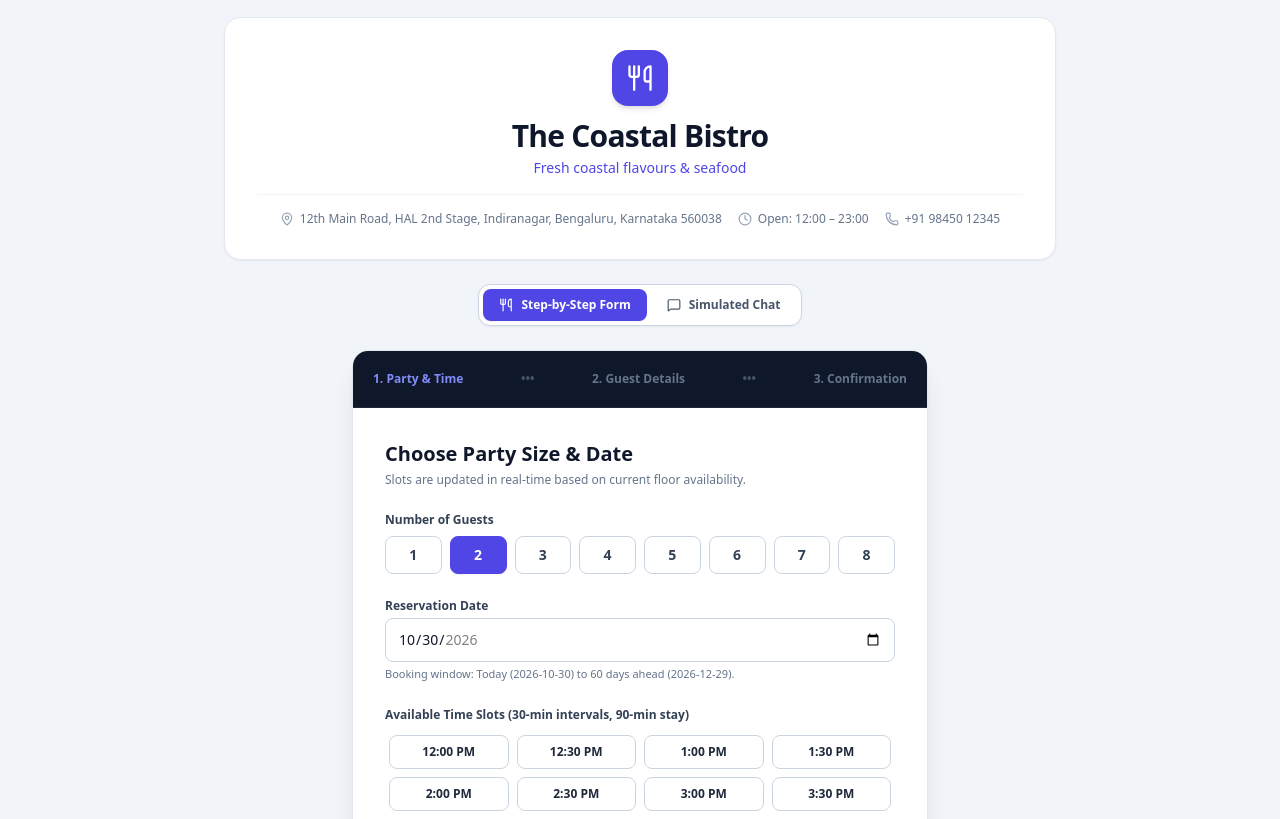
it: End-to-End User Journeys (Smoke Tests) › navigates to /book customer portal and shows request received after booking
Expected: the heading "The Coastal Bistro" is shown, [512,115,768,156]
Expected: the text "Step-by-Step Form" is shown, [521,297,631,313]
Click the button "12:00 PM": (449, 752) [389,734,508,768]
(page scrolled)
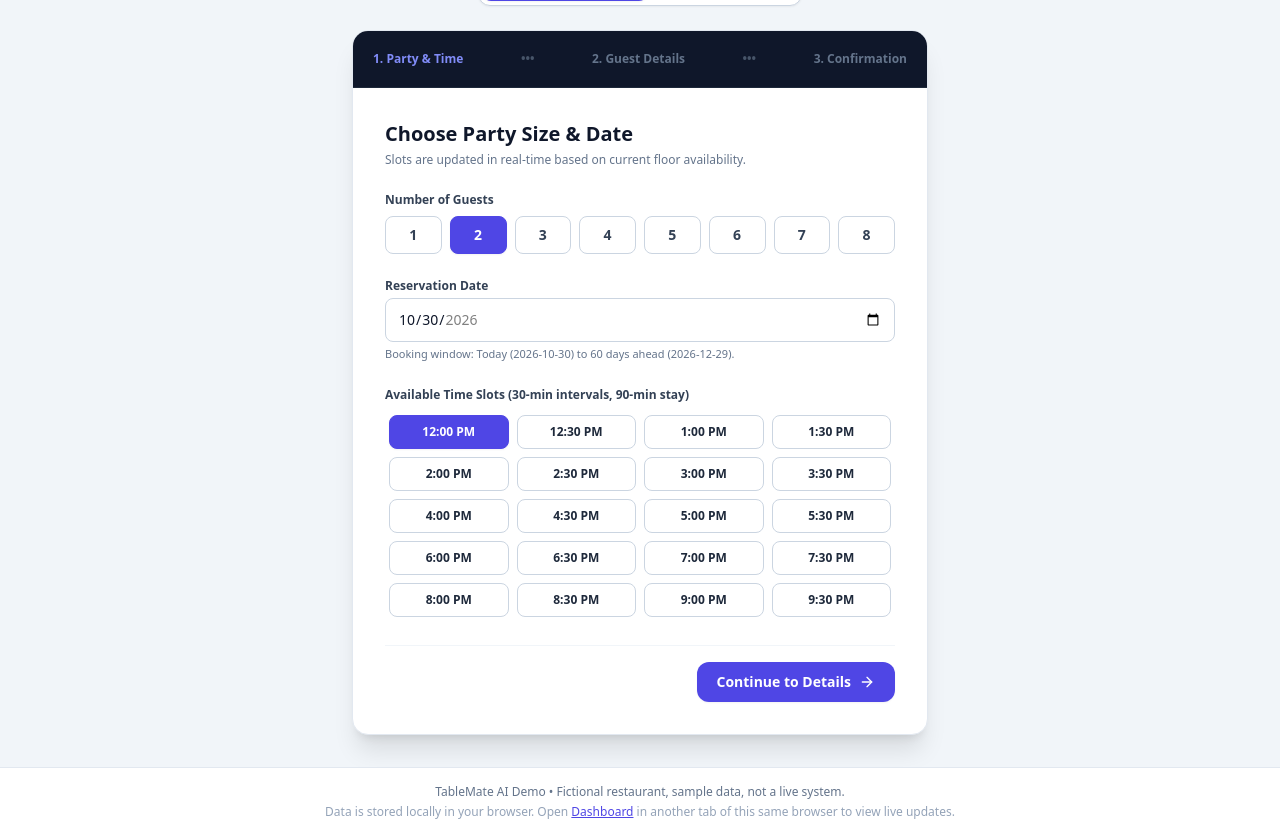
// Click continue to details
Click the button "Continue to Details": (796, 682) [696,662,895,702]
(page scrolled)
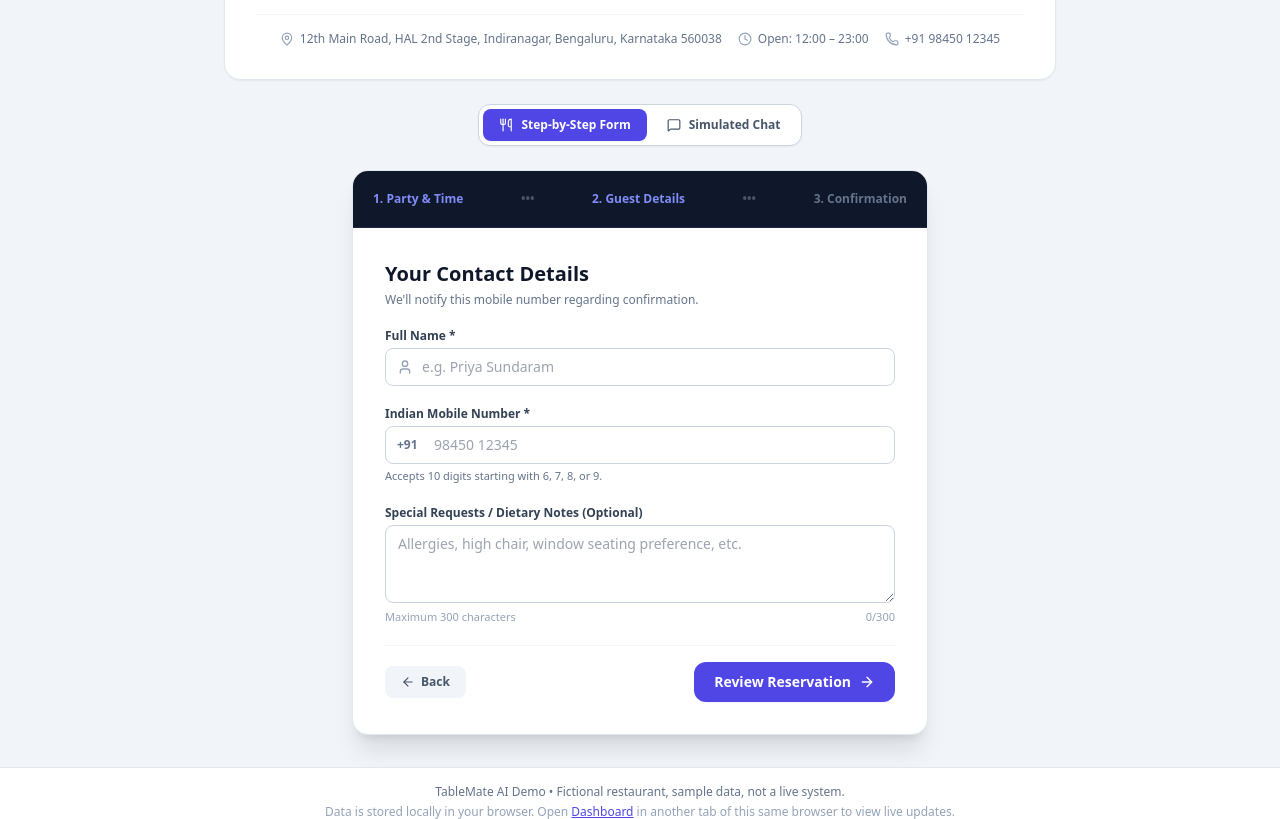
Expected: the heading "Your Contact Details" is shown, [385,260,589,287]
In the field with placeholder "e.g. Priya Sundaram": (640, 367) [385,348,895,386], type "Aarav Pilot Test"
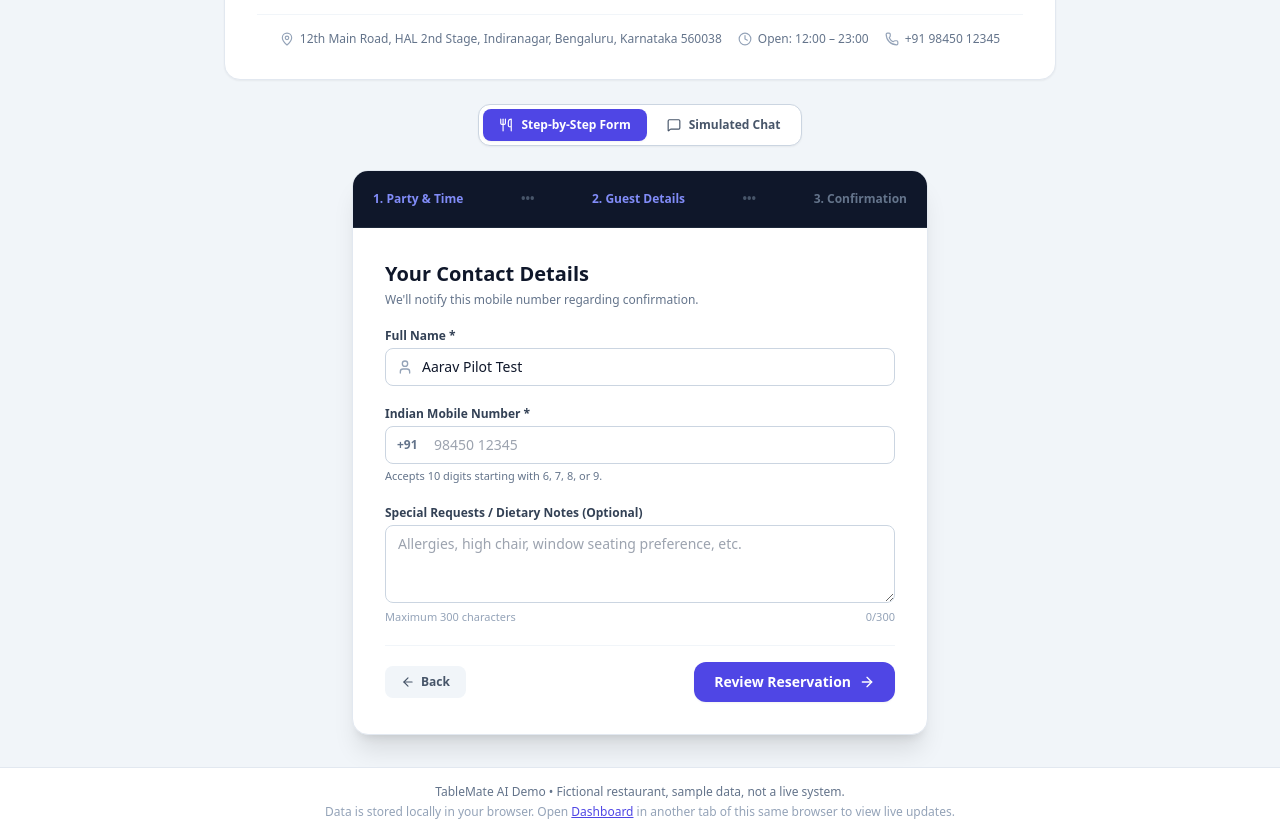
In the field with placeholder "98450 12345": (640, 445) [385,426,895,464], type "9845099999"
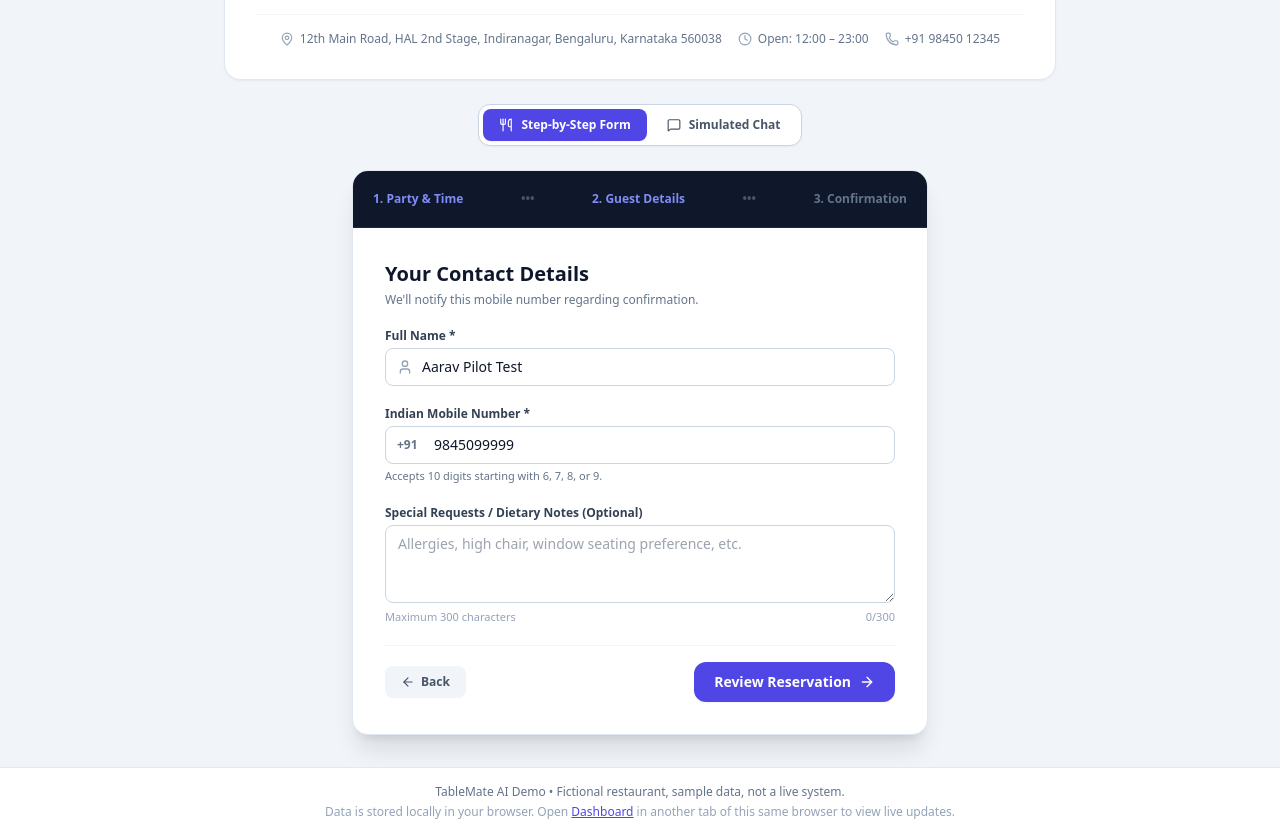
// Review step
Click the button "Review Reservation": (795, 682) [694,662,895,702]
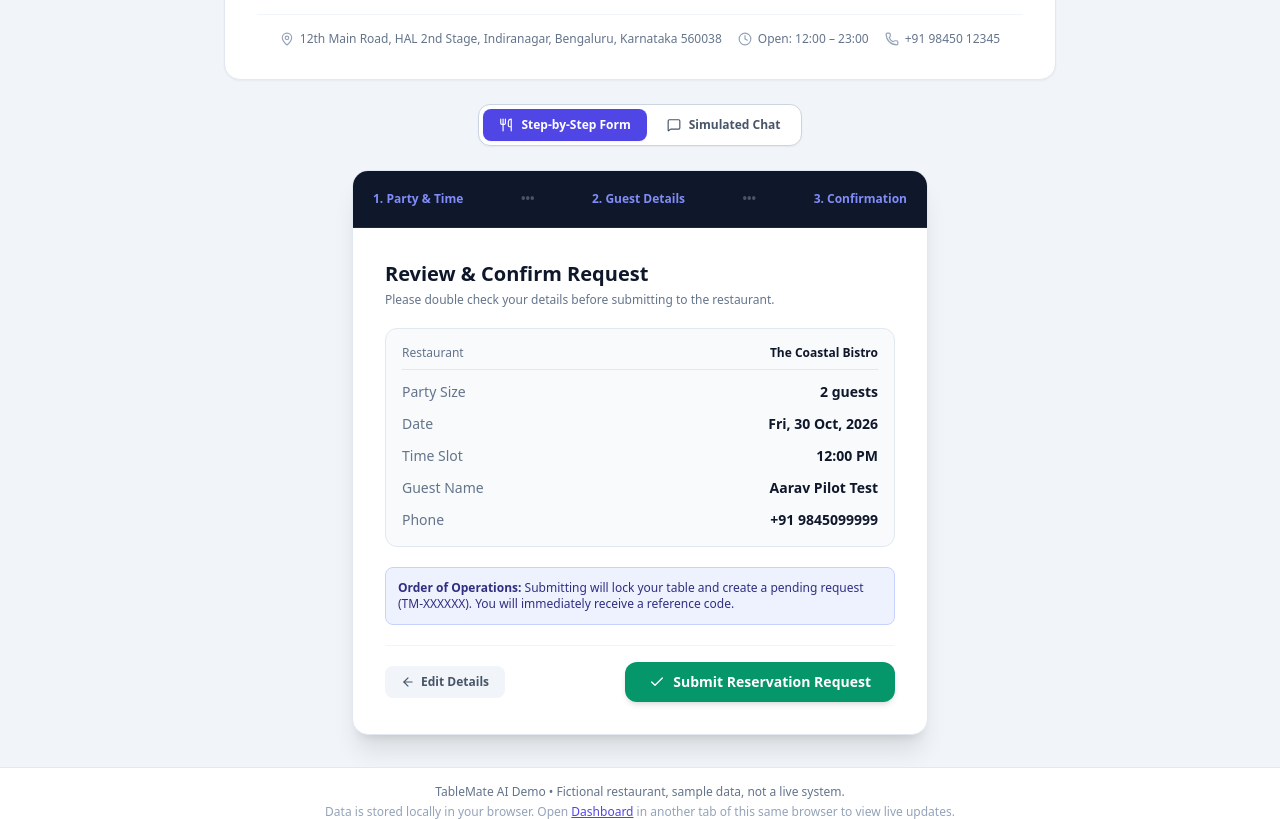
Expected: the heading "Review & Confirm Request" is shown, [385,260,648,287]
// Submit booking request
Click the button "Submit Reservation Request": (760, 682) [625,662,895,702]
(page scrolled)
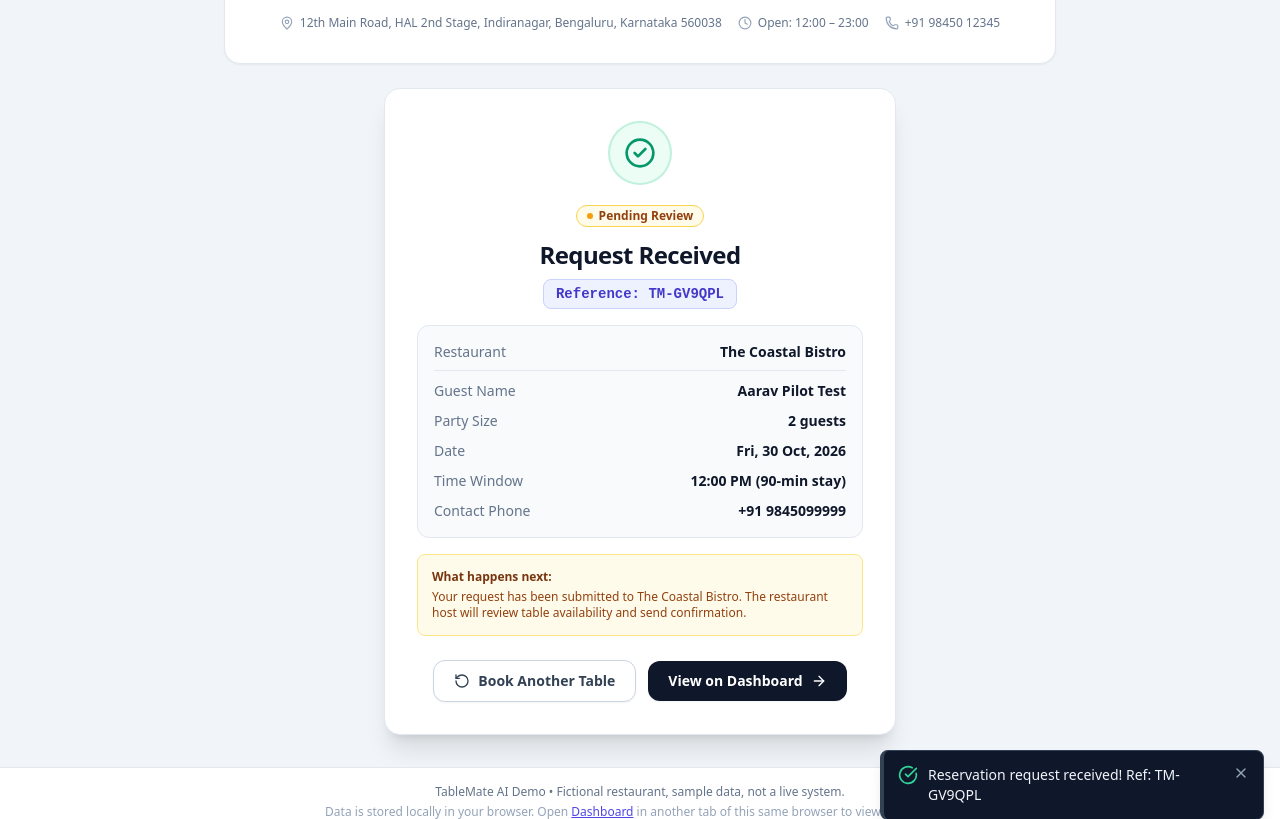
Expected: the heading "Request Received" is shown, [540,238,741,271]
Expected: the text "The restaurant host will review" is shown, [432,588,828,621]
Expected: the text "Pending Review" is shown, [599,208,693,224]
